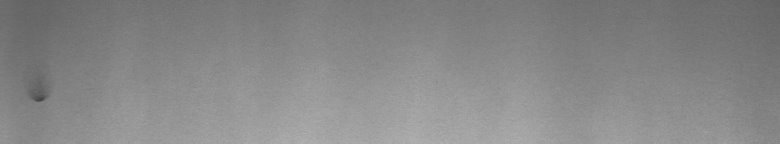fi: (29, 91, 49, 108)
